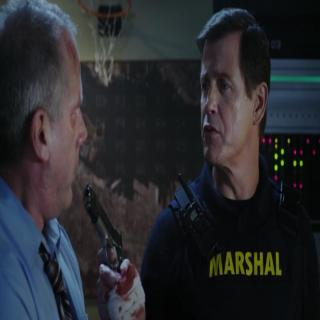gun: (81, 181, 135, 319)
